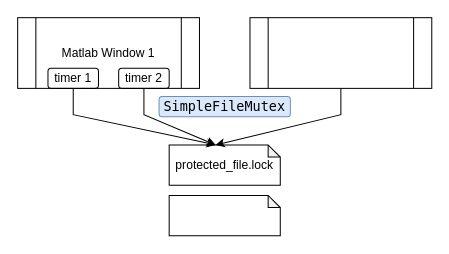
Image size: 449x254. Some labels were removed from this diagram. The shapes that lost their labels are listed below. From the top down, each one's centre as x and y in pixels, then its label:
At point (340, 52): "Matlab Window 2".
At point (224, 215): "protected_file".
